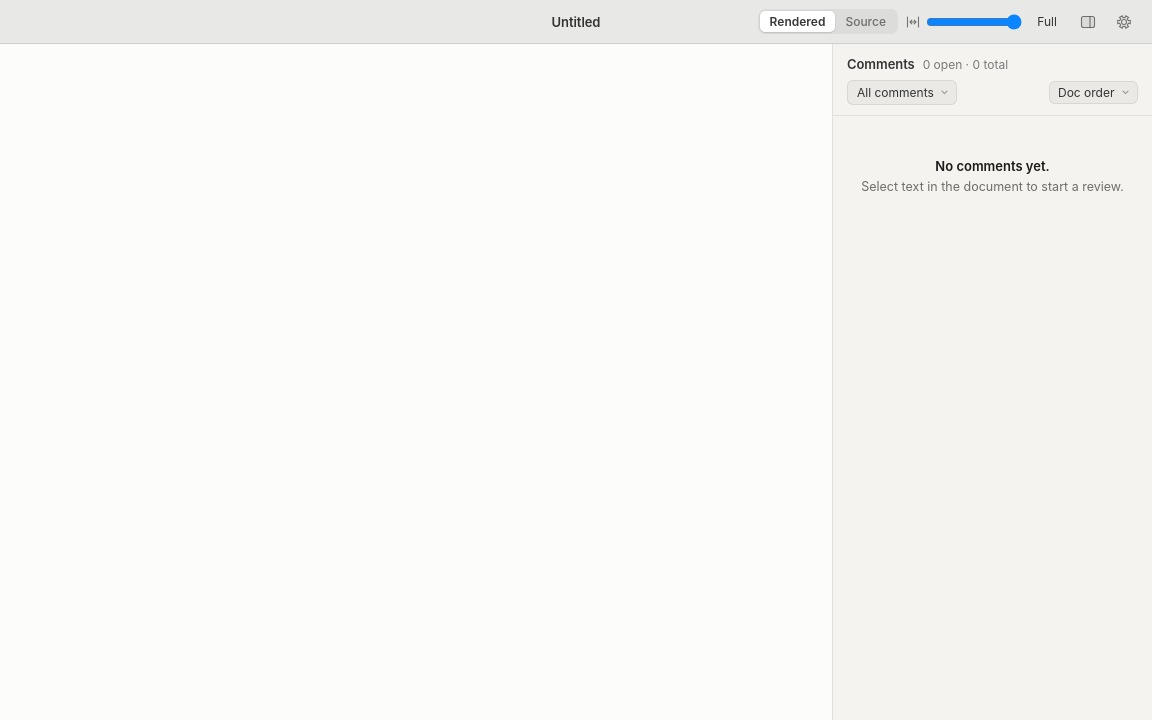
Test case: Settings → AI agents › shows the Claude app row as out of date with the date it was last sent
Click the button with test id "fm-titlebar-settings".
click(1124, 22)  # box [1110,10,1138,34]
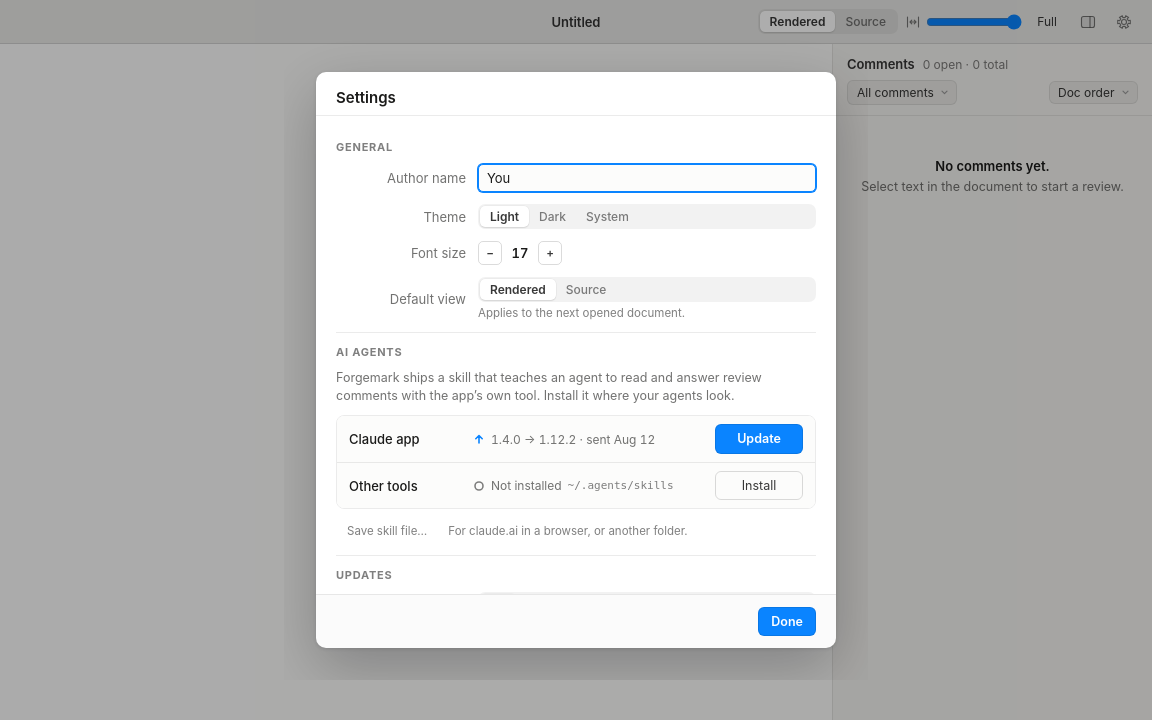
Check: the element with test id "fm-skill-rows" is shown, box [336,415,816,509]
Check: the button with test id "fm-skill-action-claude-app" reads "Update", box [715,424,803,454]
